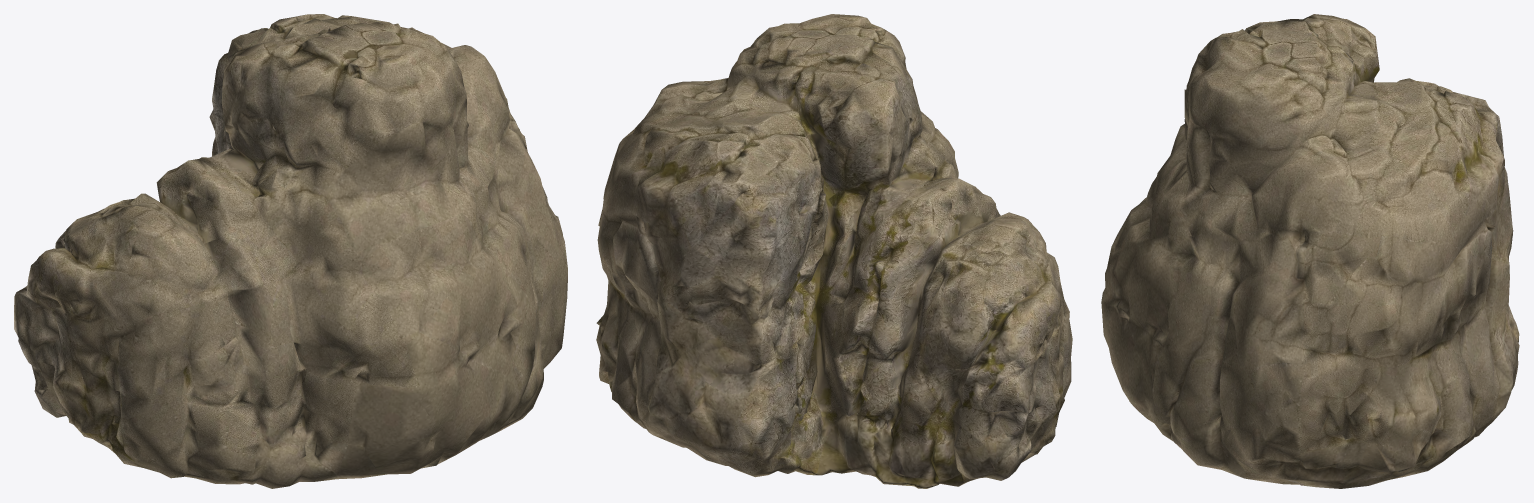
Rendered from pena.glb.
3 renders of one model, left to right at view 1: azimuth 30°, elevation 25°; view 2: azimuth 150°, elevation 25°; view 3: azimuth 270°, elevation 25°, orthographic. The views are drawn at different scales.
Visible parts, largest first — view 1: aligerado; view 2: aligerado; view 3: aligerado.
Part boxes in pixels (box(x1,y1,x2,y2)): aligerado: box(14, 14, 567, 488); aligerado: box(596, 14, 1072, 488); aligerado: box(1101, 14, 1519, 488).
Size of the model in its own units: 3.21 by 2.4 by 2.46.
1 material, 1 textured.
